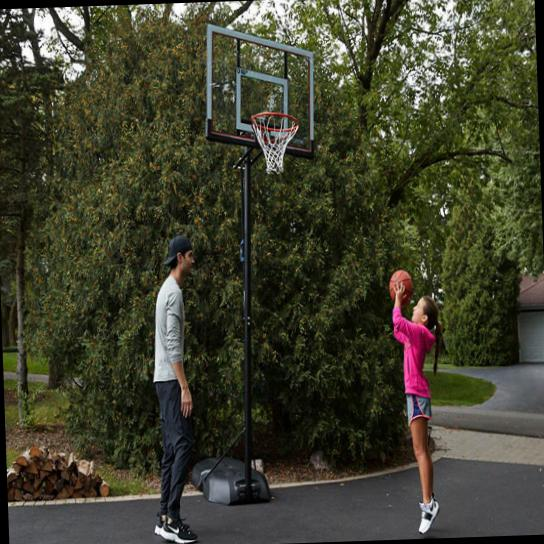basketball-hoop: (249, 110, 302, 176)
